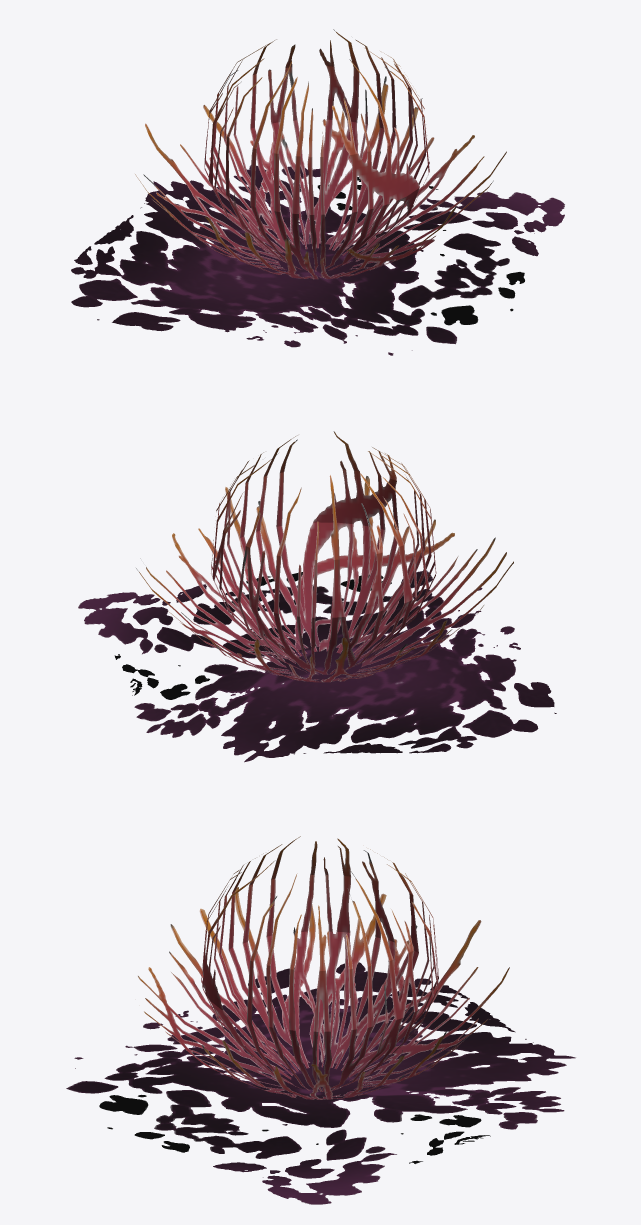
Rendered from Shrub.fbx.
3 views of the same model, one above another, from view 1: azimuth 30°, elevation 25°; view 2: azimuth 150°, elevation 25°; view 3: azimuth 270°, elevation 25° (orthographic). The views are drawn at different scales.
Parts seen in each view (by area): view 1: Cylinder.011; view 2: Cylinder.011; view 3: Cylinder.011.
Boxes of the visible parts, x1,y1,x2,y2 form: Cylinder.011: (71, 29, 564, 355); Cylinder.011: (78, 431, 556, 762); Cylinder.011: (66, 836, 575, 1204).
Bounding box in the file's own units: 571 × 267 × 571.
